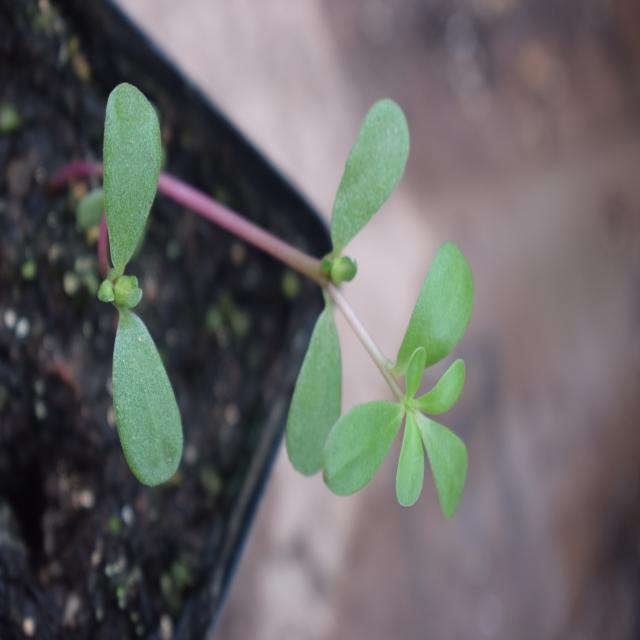purslane: (68, 77, 500, 522)
